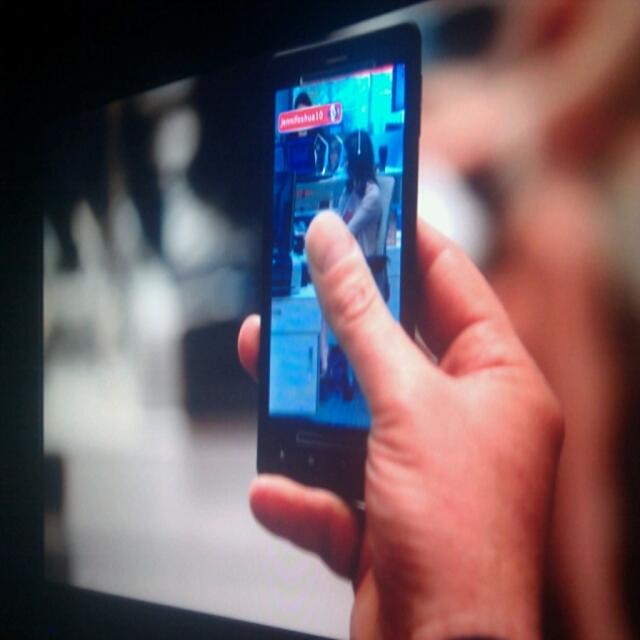Mobile-phone: (253, 26, 423, 508)
